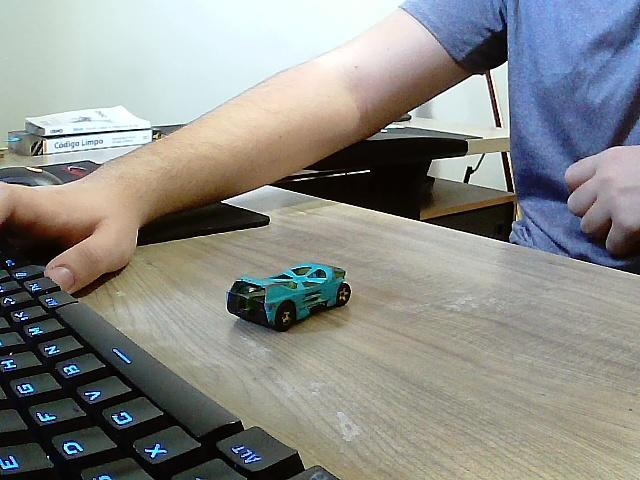Carro: (226, 264, 351, 333)
